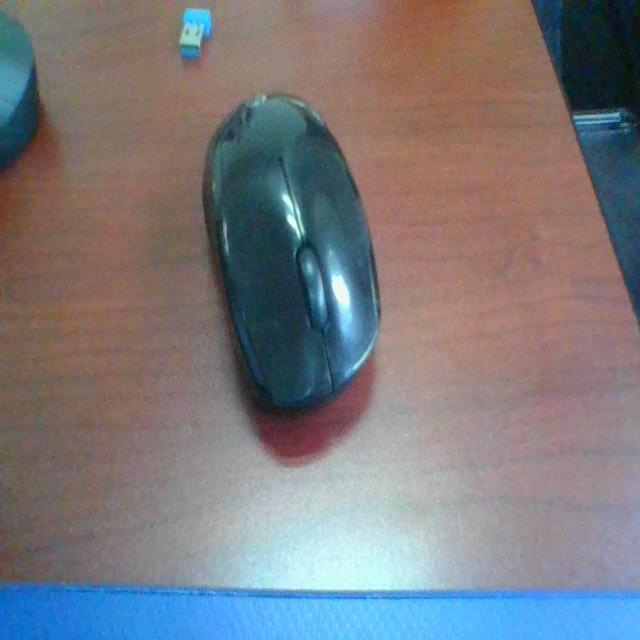mouse: (206, 85, 400, 422)
